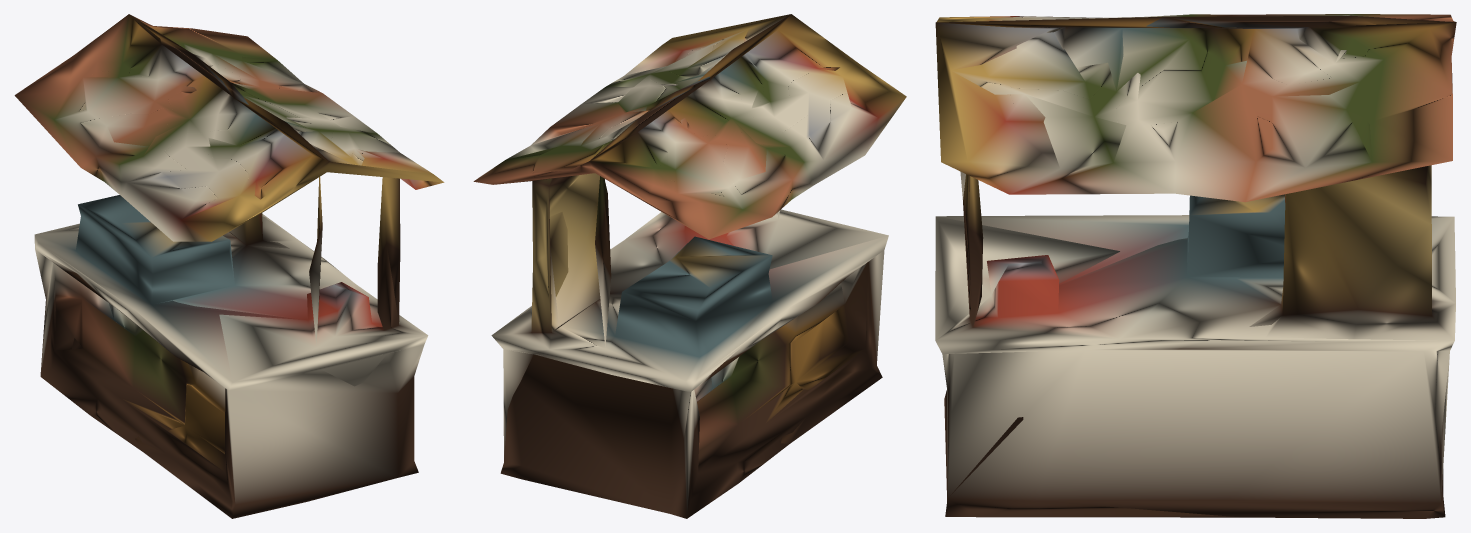
The model's file is gen3d-food-kiosk-lod1.glb.
3 views of the same model, side by side, from view 1: azimuth 30°, elevation 25°; view 2: azimuth 150°, elevation 25°; view 3: azimuth 270°, elevation 25° (orthographic). The views are drawn at different scales.
Parts seen in each view (by area): view 1: part_0; view 2: part_0; view 3: part_0.
Boxes of the visible parts, x1,y1,x2,y2 form: part_0: [14, 14, 444, 518]; part_0: [473, 14, 906, 518]; part_0: [935, 14, 1456, 518].
Size of the model in its own units: 0.7075 by 0.9792 by 1.04.
